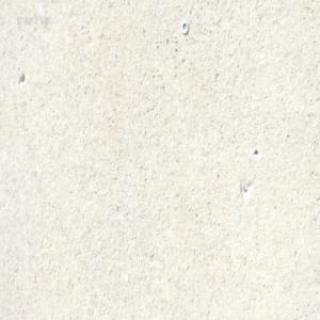Washertrack_idkeyframe: (180, 19, 188, 34)
